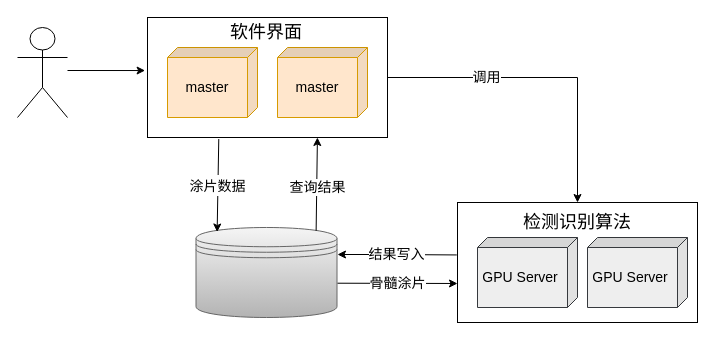
This 715x340 diagram has some shape labels left out. Each missing label, with the centre of its shape:
医生: point 42,72
数据库: point 266,272
